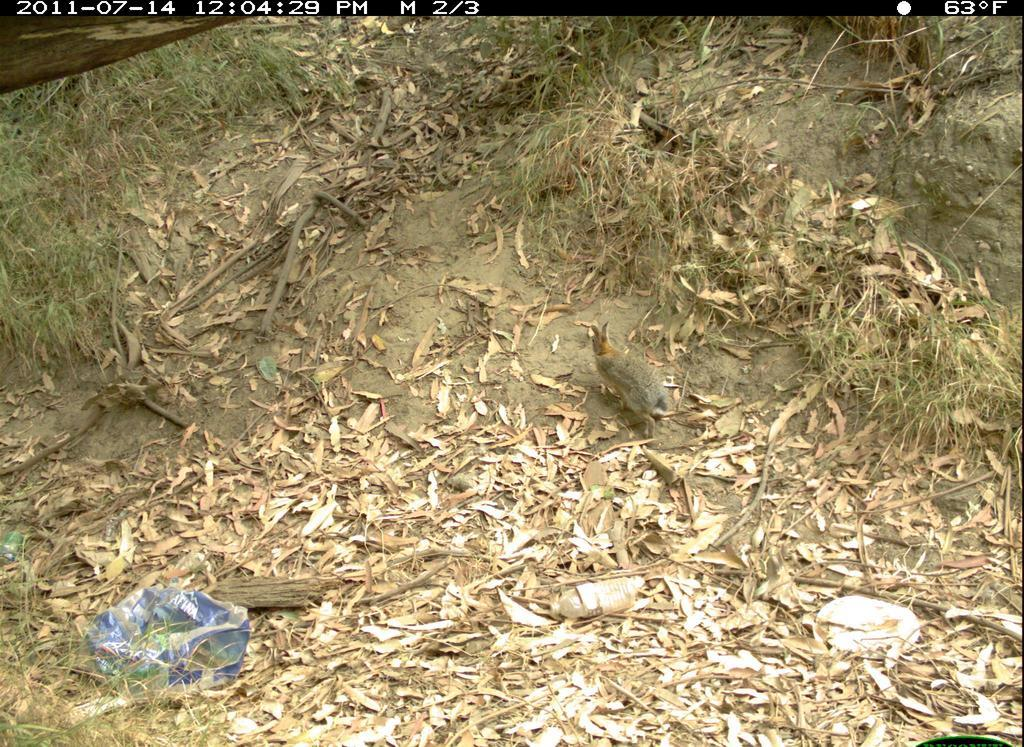rabbit: (587, 318, 680, 432)
